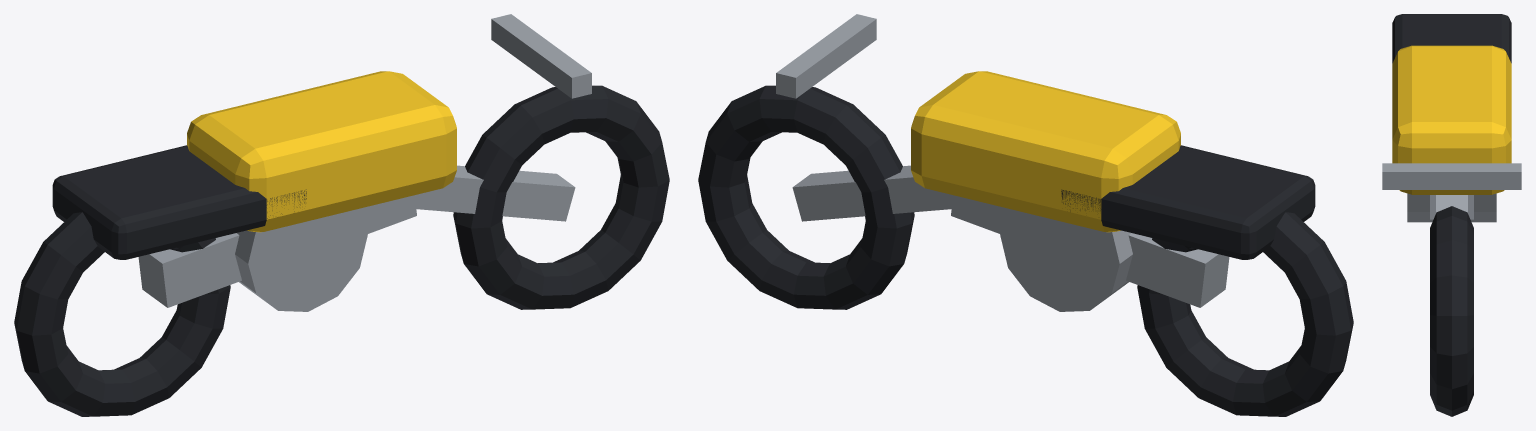
The model's file is motorcycle.glb.
The picture shows the model from 3 angles, left to right: view 1: azimuth 30°, elevation 25°; view 2: azimuth 150°, elevation 25°; view 3: azimuth 270°, elevation 25°; orthographic projection. The views are drawn at different scales.
Visible parts, largest first — view 1: Tank, FrontWheel, RearWheel, Seat, Engine, Frame, Fork, Handle; view 2: Tank, FrontWheel, RearWheel, Seat, Engine, Frame, Fork, Handle; view 3: Tank, FrontWheel, Seat, Handle, Engine, Fork, Frame.
Part boxes in pixels (bbox=[...]): Tank: bbox=[187, 71, 456, 232]; FrontWheel: bbox=[453, 85, 669, 309]; RearWheel: bbox=[14, 212, 230, 416]; Seat: bbox=[52, 145, 306, 259]; Engine: bbox=[235, 208, 367, 311]; Frame: bbox=[138, 195, 416, 307]; Fork: bbox=[414, 165, 575, 221]; Handle: bbox=[491, 14, 591, 98]; Tank: bbox=[911, 71, 1180, 232]; FrontWheel: bbox=[698, 85, 914, 309]; RearWheel: bbox=[1137, 212, 1353, 416]; Seat: bbox=[1061, 145, 1315, 259]; Engine: bbox=[1000, 208, 1132, 311]; Frame: bbox=[951, 195, 1229, 307]; Fork: bbox=[792, 165, 953, 221]; Handle: bbox=[776, 14, 876, 98]; Tank: bbox=[1392, 45, 1511, 194]; FrontWheel: bbox=[1430, 206, 1473, 416]; Seat: bbox=[1392, 14, 1511, 63]; Handle: bbox=[1382, 163, 1521, 189]; Engine: bbox=[1407, 193, 1496, 222]; Fork: bbox=[1436, 195, 1467, 212]; Frame: bbox=[1430, 195, 1473, 219].
Bounding box in the file's own units: 3.26 × 1.28 × 0.7.
